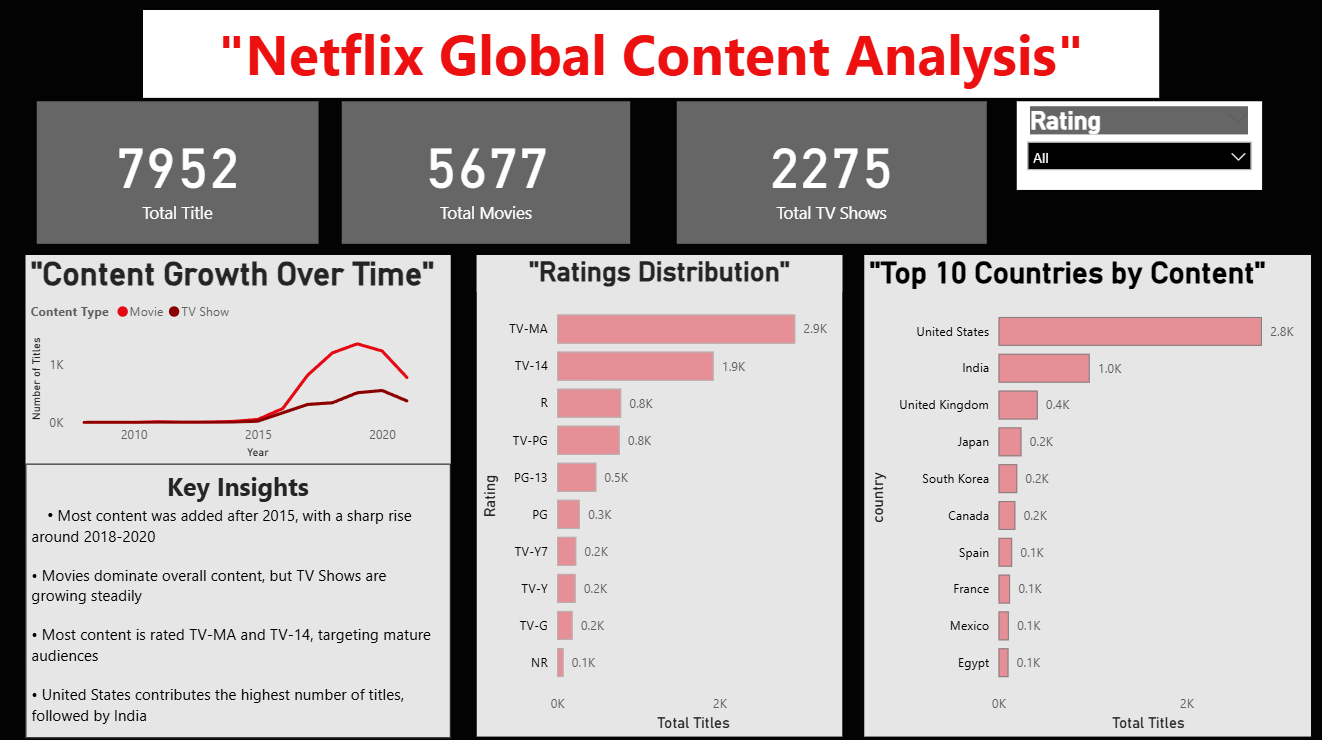

The page's visual inventory and layout, read from the dashboard file:
{"tool":"powerbi","page":{"name":"Page 1","canvas":[1280,720],"ordinal":0},"visuals":[{"type":"textbox","box":[139.9,9.7,980.8,84.5],"z":0},{"type":"clusteredBarChart","title":"\"Top 10 Countries by Content\"","fields":{"Category":["netflix_cleaned.country"],"Y":["CountNonNull(netflix_cleaned.show_id)"]},"box":[835.7,245.6,430.9,465.2],"z":1000},{"type":"card","fields":{"Values":["CountNonNull(netflix_cleaned.title)"]},"box":[37,97.4,271.7,137.2],"z":2000},{"type":"card","fields":{"Values":["netflix_cleaned.Total Movies"]},"box":[331.8,97.7,278.7,137.5],"z":3000},{"type":"card","fields":{"Values":["netflix_cleaned.Total TV Shows"]},"box":[655.1,97.7,299.2,137.5],"z":4000},{"type":"lineChart","title":"\"Content Growth Over Time\"","fields":{"Category":["netflix_cleaned.year_added"],"Y":["CountNonNull(netflix_cleaned.show_id)"],"Series":["netflix_cleaned.type"]},"box":[26.1,245.6,410.3,201.7],"z":5000},{"type":"slicer","fields":{"Values":["netflix_cleaned.rating"]},"box":[983.2,97.7,236.5,85.7],"z":6000},{"type":"clusteredBarChart","title":"\"Ratings Distribution\"","fields":{"Category":["netflix_cleaned.rating"],"Y":["CountNonNull(netflix_cleaned.show_id)"]},"box":[462.4,245.6,352.7,465.2],"z":7000},{"type":"textbox","box":[26.1,447.3,410.3,264.8],"z":8000}]}

Visuals, with their boxes in screenshot pixels (x1, y1, x2, y2), scaled from the page's 1280x720 canvas onto the 1322x740 screenshot:
textbox: x1=144 y1=10 x2=1157 y2=97
""Top 10 Countries by Content"" clusteredBarChart: x1=863 y1=252 x2=1308 y2=731
card - CountNonNull(netflix_cleaned.title): x1=38 y1=100 x2=319 y2=241
card - netflix_cleaned.Total Movies: x1=343 y1=100 x2=631 y2=242
card - netflix_cleaned.Total TV Shows: x1=677 y1=100 x2=986 y2=242
""Content Growth Over Time"" lineChart: x1=27 y1=252 x2=451 y2=460
slicer - netflix_cleaned.rating: x1=1015 y1=100 x2=1260 y2=188
""Ratings Distribution"" clusteredBarChart: x1=478 y1=252 x2=842 y2=731
textbox: x1=27 y1=460 x2=451 y2=732
